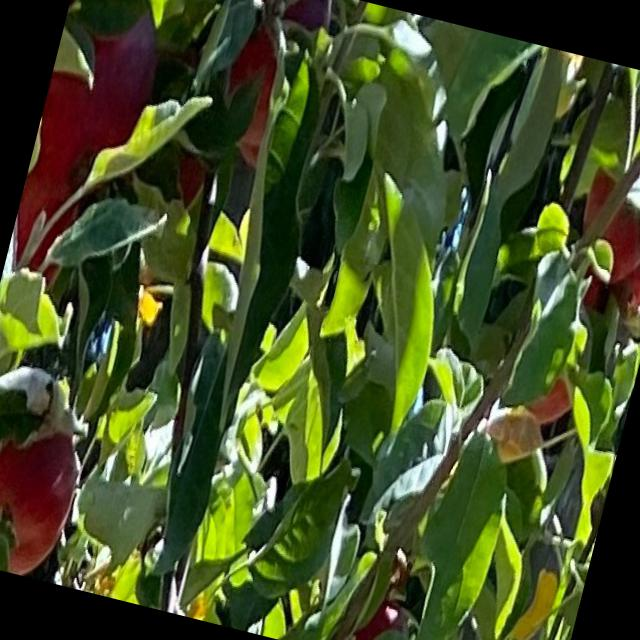Apples: (3, 0, 171, 296), (212, 0, 335, 155), (0, 420, 86, 582), (569, 162, 639, 288), (326, 558, 416, 639), (610, 209, 639, 308), (523, 372, 575, 427)
